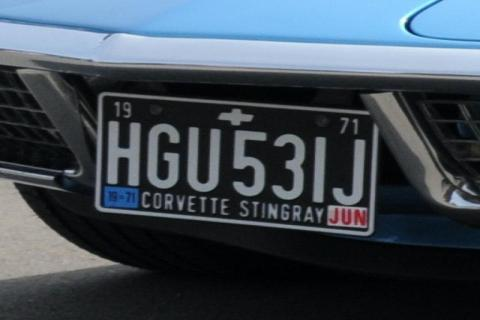LicensePlate: (94, 92, 384, 208)
